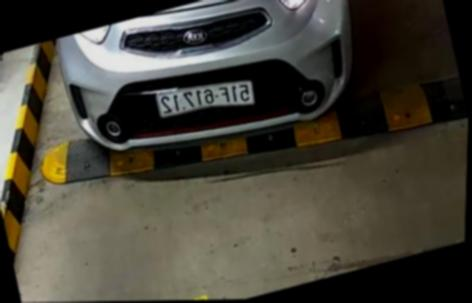License_Plate: (153, 80, 252, 123)
